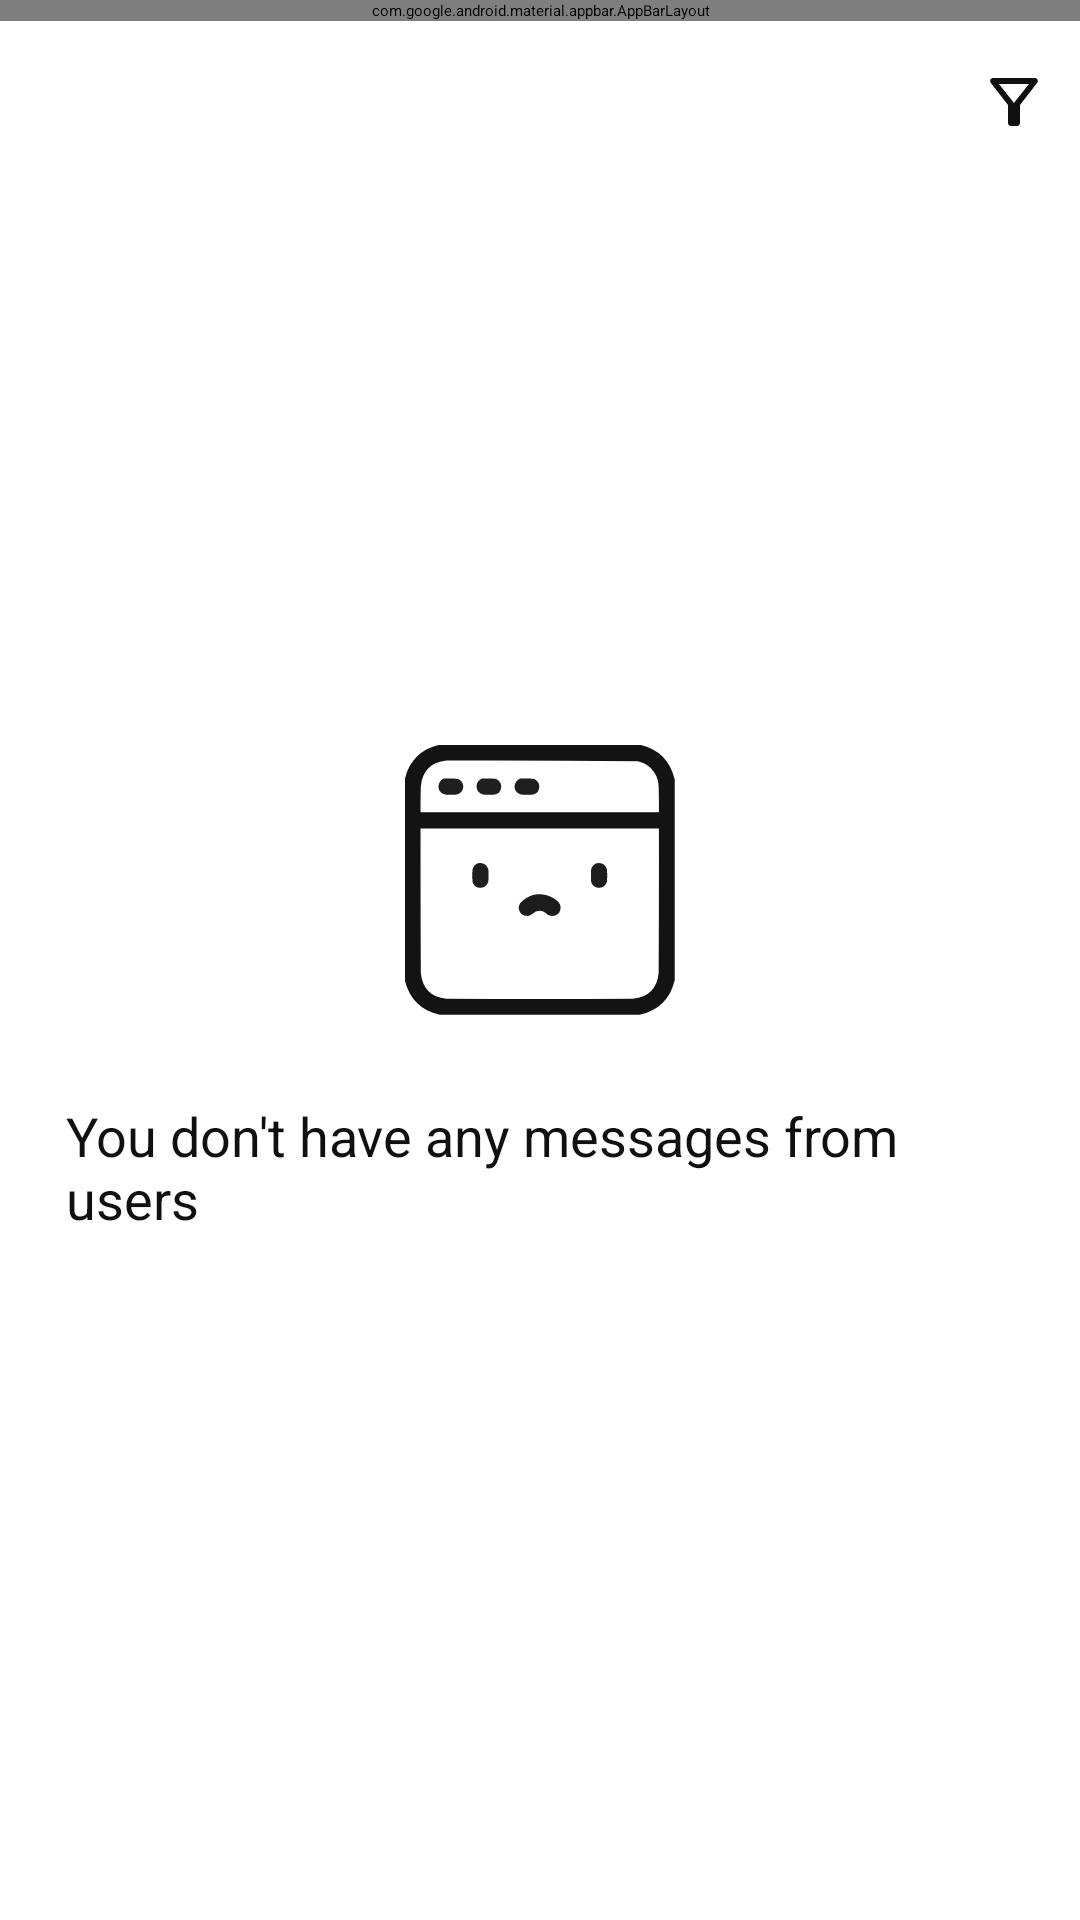

Named icons in this screenshot (1080px x 1920px) and their bounding boxes, [x1,y1,x2,y2]:
filter: [990,78,1038,126]
